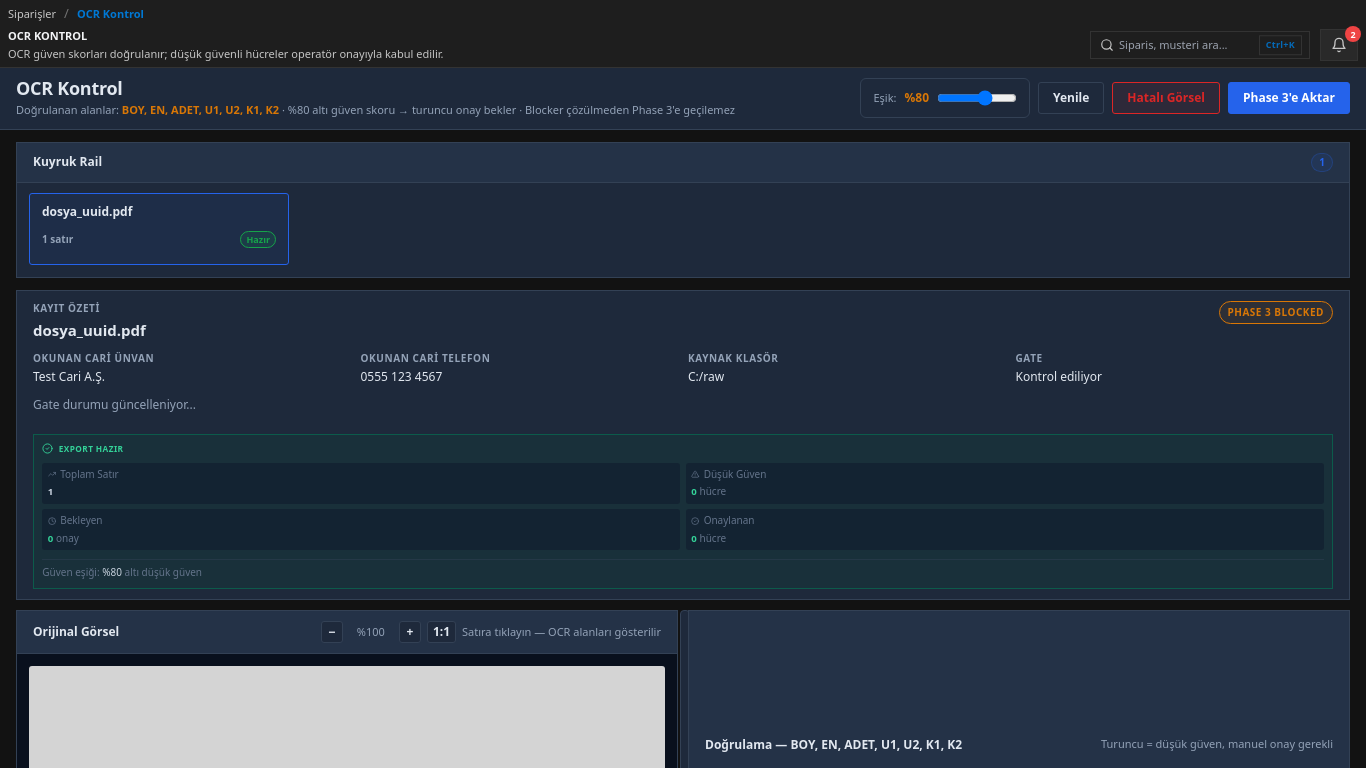
Test: OCRKontrolPage › Hatalı butonuna tıklanınca modal açılır
Step 1. Click the button "Hatalı Görsel" → x=1166, y=98, box [1112,82,1220,114]
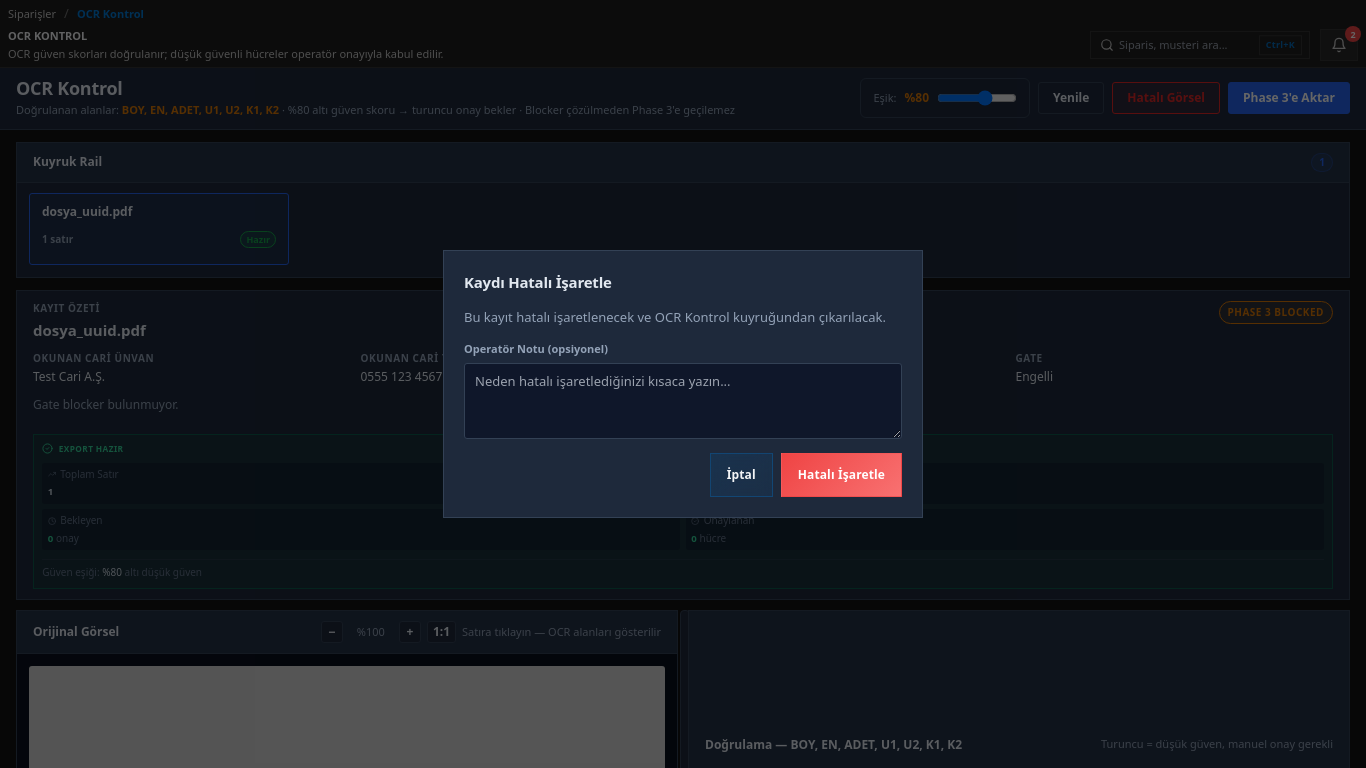
Expected: the dialog is shown
